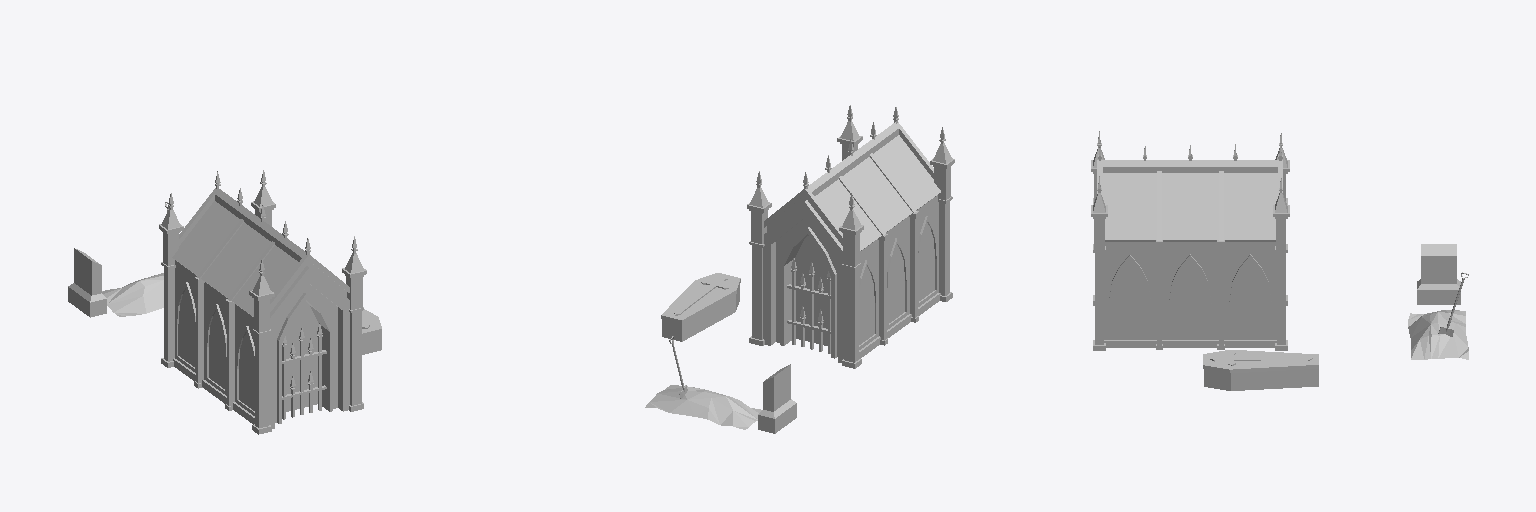
The model's file is ground.obj.
The picture shows the model from 3 angles: view 1: azimuth 30°, elevation 25°; view 2: azimuth 150°, elevation 25°; view 3: azimuth 270°, elevation 25°; orthographic projection.
Visible parts, largest first — view 1: Crypt_3_Mesh.007, Headstone_3_Mesh.006, Ground_Mesh.003, Coffin_1_Mesh.005; view 2: Crypt_3_Mesh.007, Coffin_1_Mesh.005, Ground_Mesh.003, Headstone_3_Mesh.006; view 3: Crypt_3_Mesh.007, Coffin_1_Mesh.005, Ground_Mesh.003, Headstone_3_Mesh.006.
Part boxes in pixels (x1,y1,x2,y2): Crypt_3_Mesh.007: (159, 170, 366, 434); Headstone_3_Mesh.006: (68, 248, 106, 317); Ground_Mesh.003: (102, 273, 163, 316); Coffin_1_Mesh.005: (362, 309, 381, 354); Crypt_3_Mesh.007: (747, 105, 954, 368); Coffin_1_Mesh.005: (661, 273, 740, 341); Ground_Mesh.003: (645, 385, 761, 429); Headstone_3_Mesh.006: (758, 364, 796, 433); Crypt_3_Mesh.007: (1091, 131, 1289, 350); Coffin_1_Mesh.005: (1203, 350, 1318, 390); Ground_Mesh.003: (1408, 310, 1468, 359); Headstone_3_Mesh.006: (1417, 244, 1460, 304).
Bounding box in the file's own units: 2.83 × 2.61 × 4.77.